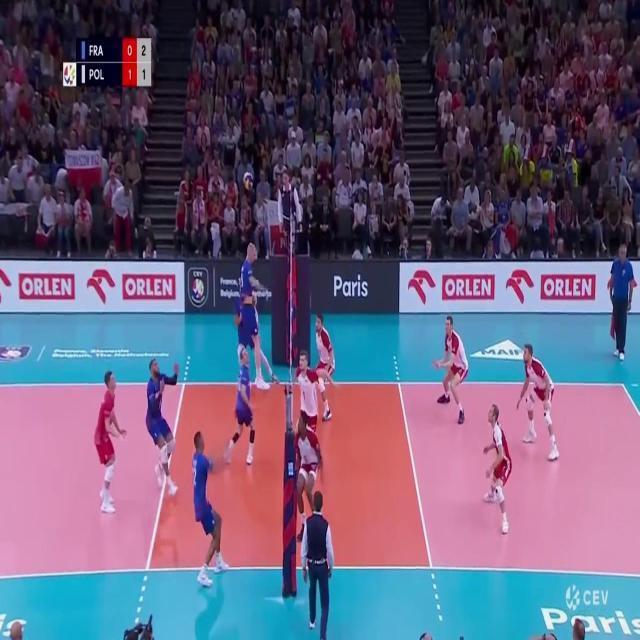volleyball: (242, 171, 255, 190)
